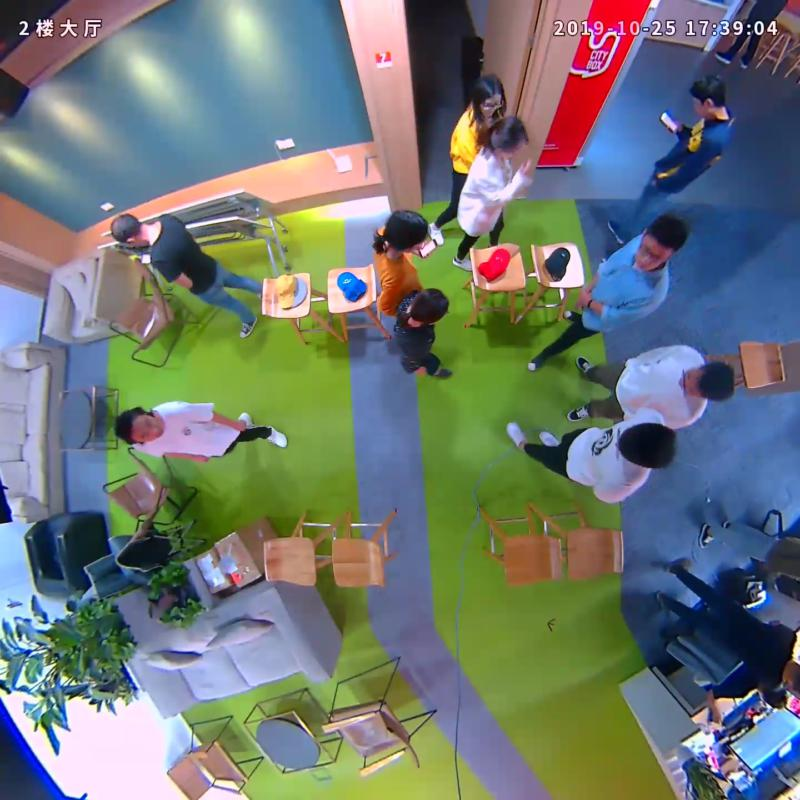head: (635, 215, 689, 270), (617, 423, 677, 468), (680, 362, 735, 403), (114, 406, 165, 446), (385, 210, 429, 254), (489, 117, 528, 161), (688, 73, 726, 118), (470, 74, 505, 117), (410, 288, 449, 325), (109, 213, 144, 247)
